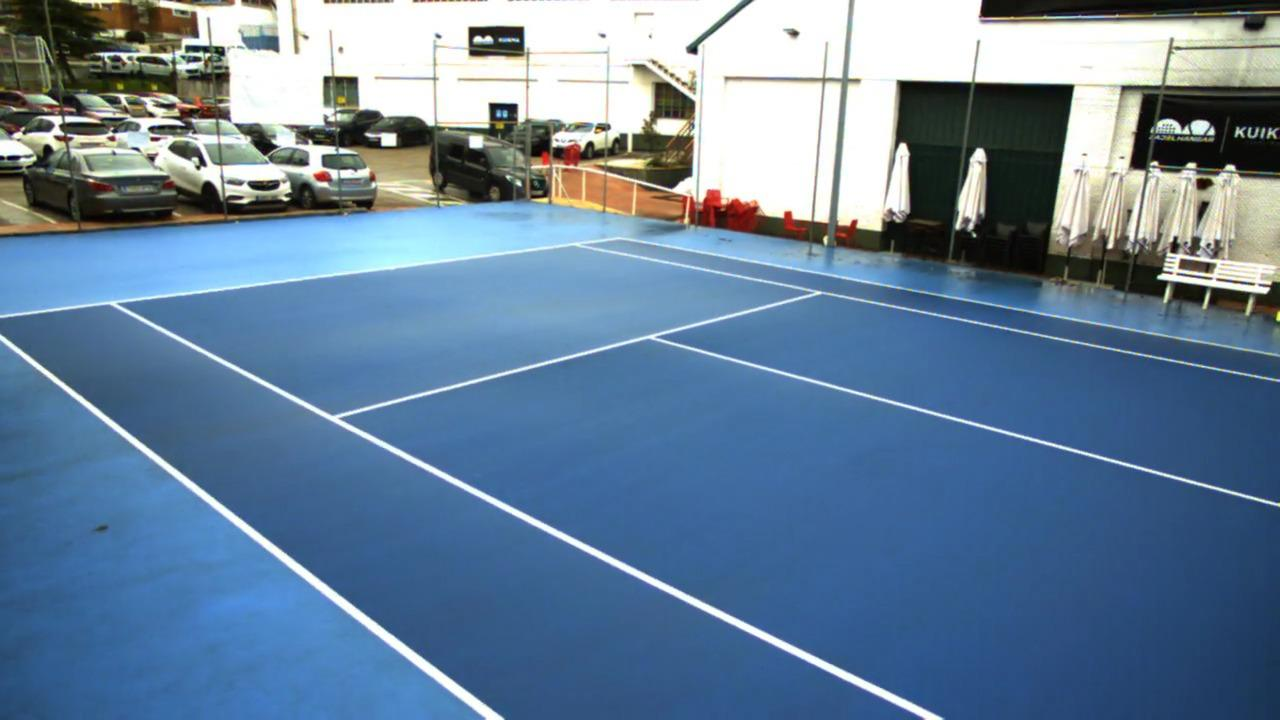cancha_tenis: (112, 242, 1280, 720)
point_f1: (97, 290, 134, 317)
point_f2: (566, 234, 589, 255)
point_fc1: (383, 258, 403, 275)
point_i1: (319, 404, 353, 432)
point_i2: (804, 284, 830, 304)
point_ic1: (638, 322, 666, 349)
